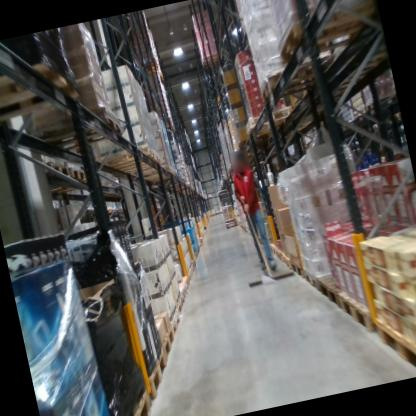pallet: (272, 0, 384, 65), (0, 51, 88, 128), (247, 55, 342, 111), (27, 103, 123, 156), (336, 278, 405, 339), (318, 263, 384, 318), (238, 100, 314, 140), (377, 307, 416, 379), (136, 346, 174, 402), (34, 160, 91, 192), (303, 259, 349, 296), (99, 143, 156, 172), (115, 150, 165, 182), (151, 323, 180, 370), (114, 387, 153, 416), (43, 156, 73, 181), (198, 49, 222, 75), (365, 95, 393, 117), (139, 165, 173, 182), (290, 256, 309, 284), (167, 308, 184, 337), (174, 271, 192, 294), (170, 297, 187, 319), (274, 244, 292, 264), (174, 283, 188, 305), (161, 117, 175, 134), (266, 239, 278, 257), (151, 71, 166, 85), (283, 250, 293, 270), (389, 110, 402, 124), (84, 206, 96, 217), (106, 207, 114, 216), (112, 206, 118, 213)
